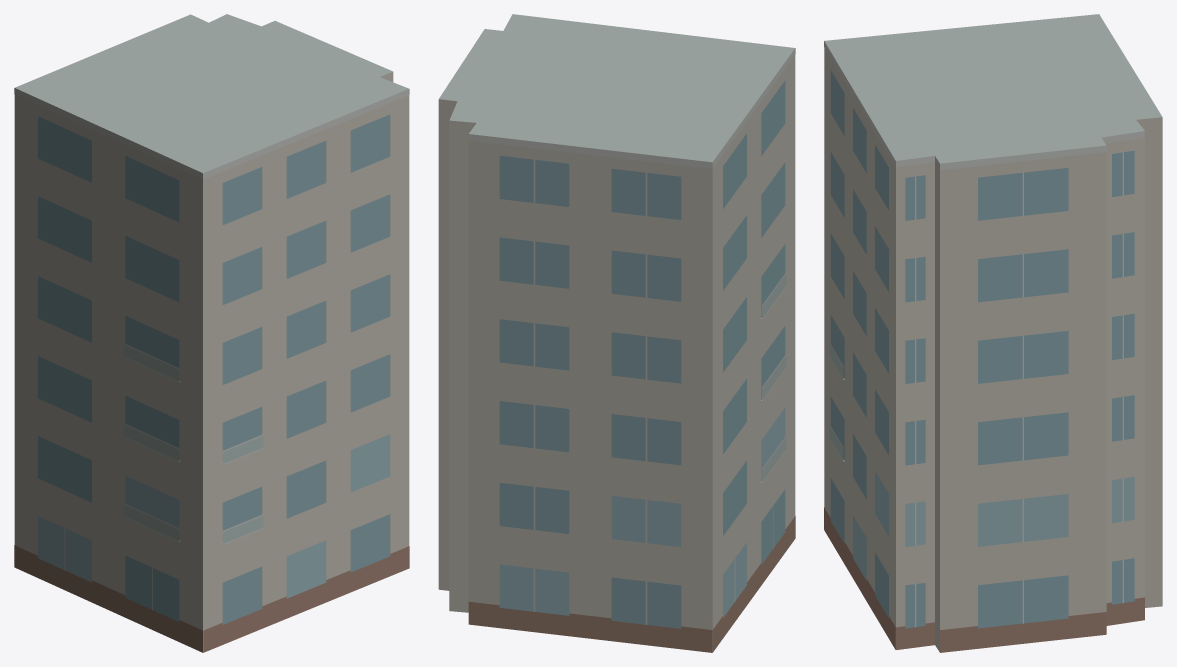
File: survey-upis-33036419.glb
3 views of the same model, side by side, from view 1: azimuth 30°, elevation 25°; view 2: azimuth 150°, elevation 25°; view 3: azimuth 270°, elevation 25° (orthographic). The views are drawn at different scales.
Visible parts, largest first — view 1: survey-upis-33036419.tmp; view 2: survey-upis-33036419.tmp; view 3: survey-upis-33036419.tmp.
Boxes of the visible parts, <box> form: survey-upis-33036419.tmp: <box>14,14,409,652</box>; survey-upis-33036419.tmp: <box>438,14,795,652</box>; survey-upis-33036419.tmp: <box>824,14,1162,652</box>.
Bounding box in the file's own units: 12.02 × 18.3 × 11.49.
